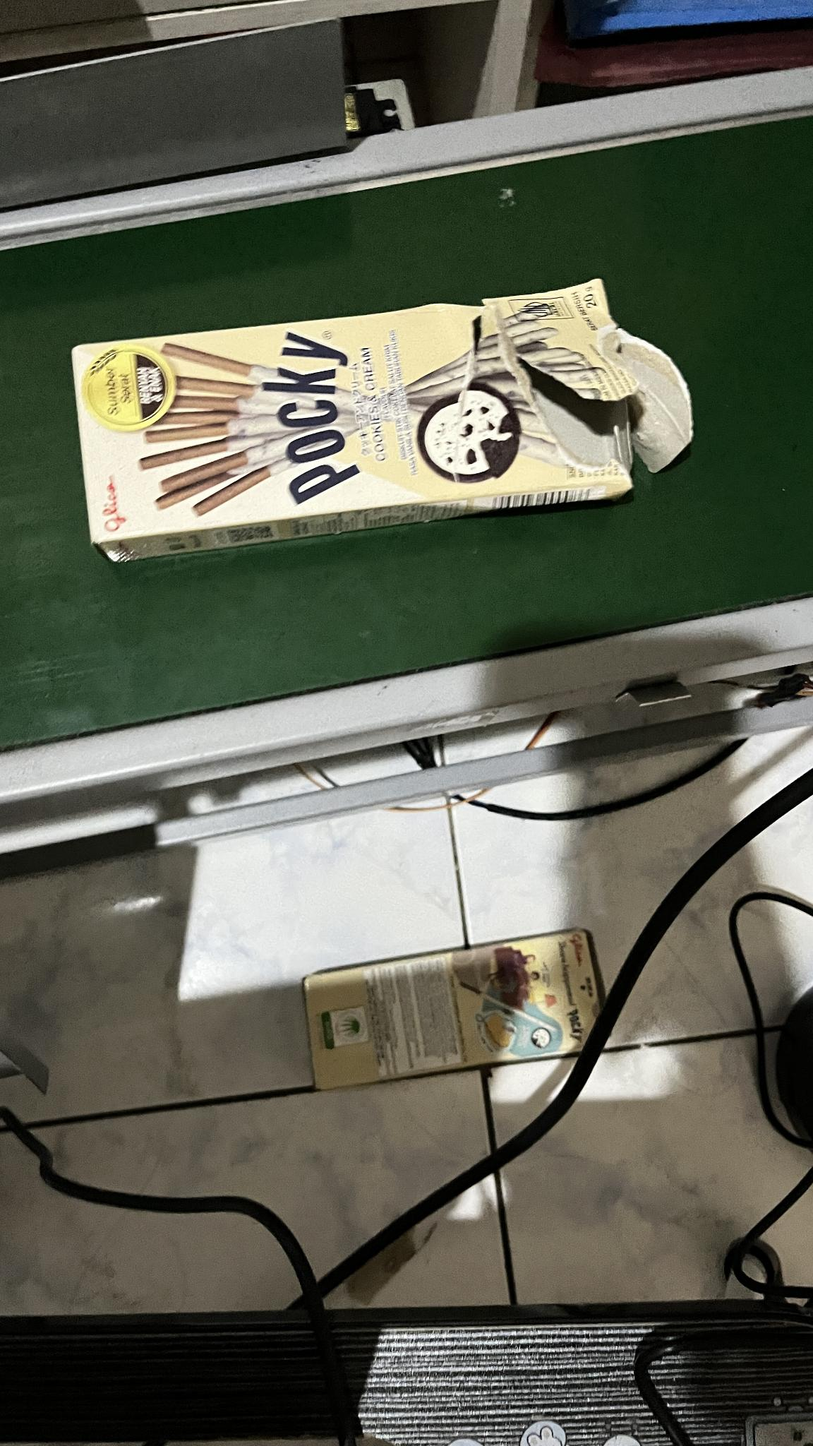Kertas: (68, 283, 634, 559)
